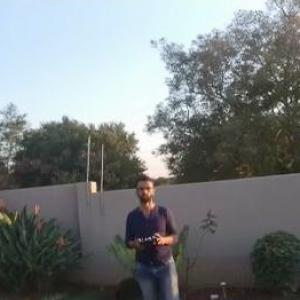follow: (117, 168, 192, 299)
